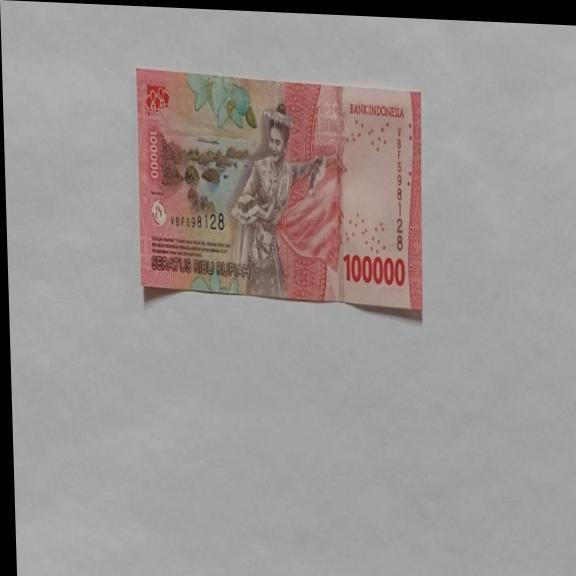Kertas: (134, 68, 427, 315), (342, 251, 406, 288)
